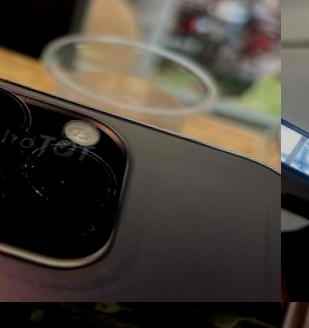scratch: (196, 164, 281, 302), (21, 226, 153, 302), (281, 82, 309, 293)
